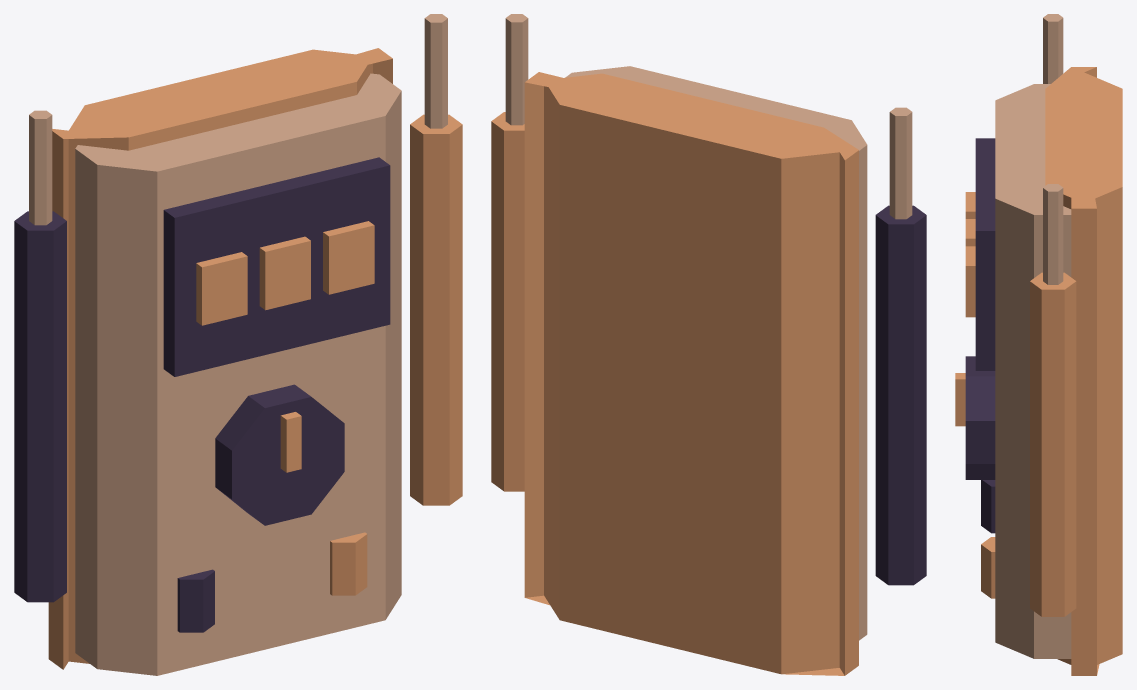
Rendered from multimeter.obj.
The picture shows the model from 3 angles, left to right: view 1: azimuth 30°, elevation 25°; view 2: azimuth 150°, elevation 25°; view 3: azimuth 270°, elevation 25°; orthographic projection. The views are drawn at different scales.
Parts seen in each view (by area): view 1: multimeter_clay_sand, multimeter_deep_purple, multimeter_warm_orange; view 2: multimeter_warm_orange, multimeter_deep_purple, multimeter_clay_sand; view 3: multimeter_warm_orange, multimeter_clay_sand, multimeter_deep_purple.
Boxes of the visible parts, x1=… form: multimeter_clay_sand: x1=29, y1=14, x2=447, y2=675; multimeter_deep_purple: x1=14, y1=157, x2=390, y2=632; multimeter_warm_orange: x1=48, y1=48, x2=462, y2=669; multimeter_warm_orange: x1=491, y1=72, x2=858, y2=675; multimeter_deep_purple: x1=875, y1=205, x2=926, y2=585; multimeter_clay_sand: x1=505, y1=14, x2=912, y2=640; multimeter_warm_orange: x1=955, y1=67, x2=1122, y2=675; multimeter_clay_sand: x1=995, y1=14, x2=1071, y2=658; multimeter_deep_purple: x1=965, y1=138, x2=995, y2=533.
Size of the model in its own units: 0.1716 by 0.215 by 0.065.
